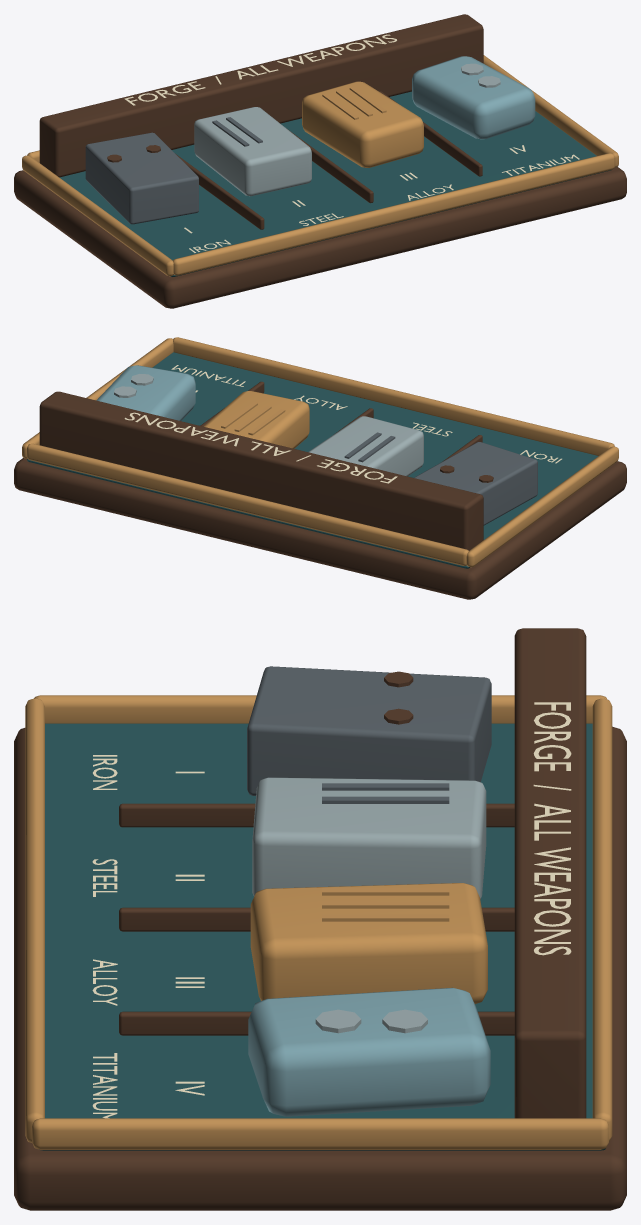
File: w2b-rook-forge-tray.glb
3 views of the same model, one above another, from view 1: azimuth 30°, elevation 25°; view 2: azimuth 150°, elevation 25°; view 3: azimuth 270°, elevation 25° (orthographic). The views are drawn at different scales.
Parts seen in each view (by area): view 1: Fixture | Forge | Ebonised oak, Fixture | Forge | Deep petrol lining, Fixture | Fixture | Brushed brass, Fixture | Forge I | Dark forged iron, Fixture | Forge II | Bright steel, Fixture | Forge III | Amber alloy, Fixture | Forge IV | Blue-grey titanium, Fixture | Fixture | Linen enamel lettering; view 2: Fixture | Forge | Ebonised oak, Fixture | Fixture | Brushed brass, Fixture | Forge | Deep petrol lining, Fixture | Forge I | Dark forged iron, Fixture | Forge II | Bright steel, Fixture | Forge III | Amber alloy, Fixture | Forge IV | Blue-grey titanium, Fixture | Fixture | Linen enamel lettering; view 3: Fixture | Forge | Ebonised oak, Fixture | Forge | Deep petrol lining, Fixture | Fixture | Brushed brass, Fixture | Forge I | Dark forged iron, Fixture | Forge IV | Blue-grey titanium, Fixture | Forge II | Bright steel, Fixture | Forge III | Amber alloy, Fixture | Fixture | Linen enamel lettering.
Part boxes in pixels (<box>): Fixture | Forge | Ebonised oak: <box>14,14,626,308</box>; Fixture | Forge | Deep petrol lining: <box>59,91,611,276</box>; Fixture | Fixture | Brushed brass: <box>22,55,618,276</box>; Fixture | Forge I | Dark forged iron: <box>85,117,262,224</box>; Fixture | Forge II | Bright steel: <box>194,63,500,196</box>; Fixture | Forge III | Amber alloy: <box>302,81,423,167</box>; Fixture | Forge IV | Blue-grey titanium: <box>412,56,535,139</box>; Fixture | Fixture | Linen enamel lettering: <box>124,34,579,252</box>; Fixture | Forge | Ebonised oak: <box>14,381,626,599</box>; Fixture | Fixture | Brushed brass: <box>22,337,618,567</box>; Fixture | Forge | Deep petrol lining: <box>27,352,598,568</box>; Fixture | Forge I | Dark forged iron: <box>344,432,537,525</box>; Fixture | Forge II | Bright steel: <box>114,374,423,476</box>; Fixture | Forge III | Amber alloy: <box>203,391,309,448</box>; Fixture | Forge IV | Blue-grey titanium: <box>96,365,195,421</box>; Fixture | Fixture | Linen enamel lettering: <box>124,365,561,483</box>; Fixture | Forge | Ebonised oak: <box>14,628,626,1210</box>; Fixture | Forge | Deep petrol lining: <box>39,723,605,1150</box>; Fixture | Fixture | Brushed brass: <box>25,695,612,1149</box>; Fixture | Forge I | Dark forged iron: <box>247,666,491,803</box>; Fixture | Forge IV | Blue-grey titanium: <box>248,987,490,1116</box>; Fixture | Forge II | Bright steel: <box>252,777,486,1033</box>; Fixture | Forge III | Amber alloy: <box>250,883,487,1003</box>; Fixture | Fixture | Linen enamel lettering: <box>92,702,571,1118</box>.
Size of the model in its own units: 0.64 by 0.1138 by 0.376.
